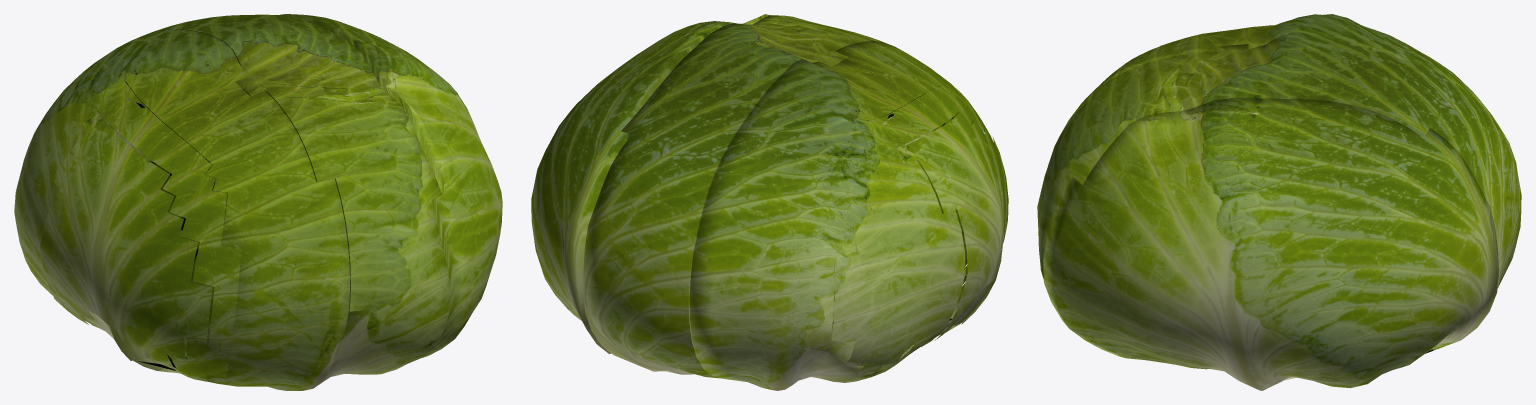
The model's file is lechugaEntera.fbx.
The picture shows the model from 3 angles, left to right: view 1: azimuth 30°, elevation 25°; view 2: azimuth 150°, elevation 25°; view 3: azimuth 270°, elevation 25°; orthographic projection.
Parts seen in each view (by area): view 1: Cabbage.003, Cabbage.004, Cabbage.001, Cabbage.002, Cabbage; view 2: Cabbage.003, Cabbage.004, Cabbage.002, Cabbage, Cabbage.001; view 3: Cabbage, Cabbage.004, Cabbage.003.
Boxes of the visible parts, x1,y1,x2,y2 form: Cabbage.003: (32,29,349,390); Cabbage.004: (156,14,450,388); Cabbage.001: (40,110,212,368); Cabbage.002: (14,75,241,381); Cabbage: (280,14,502,357); Cabbage.003: (689,41,983,390); Cabbage.004: (583,15,883,378); Cabbage.002: (831,85,992,375); Cabbage: (531,14,769,353); Cabbage.001: (896,112,1008,340); Cabbage: (1043,98,1498,390); Cabbage.004: (1037,32,1521,288); Cabbage.003: (1052,14,1515,161).
Bounding box in the file's own units: 17.23 × 12.21 × 17.49.
1 material, 1 textured.
